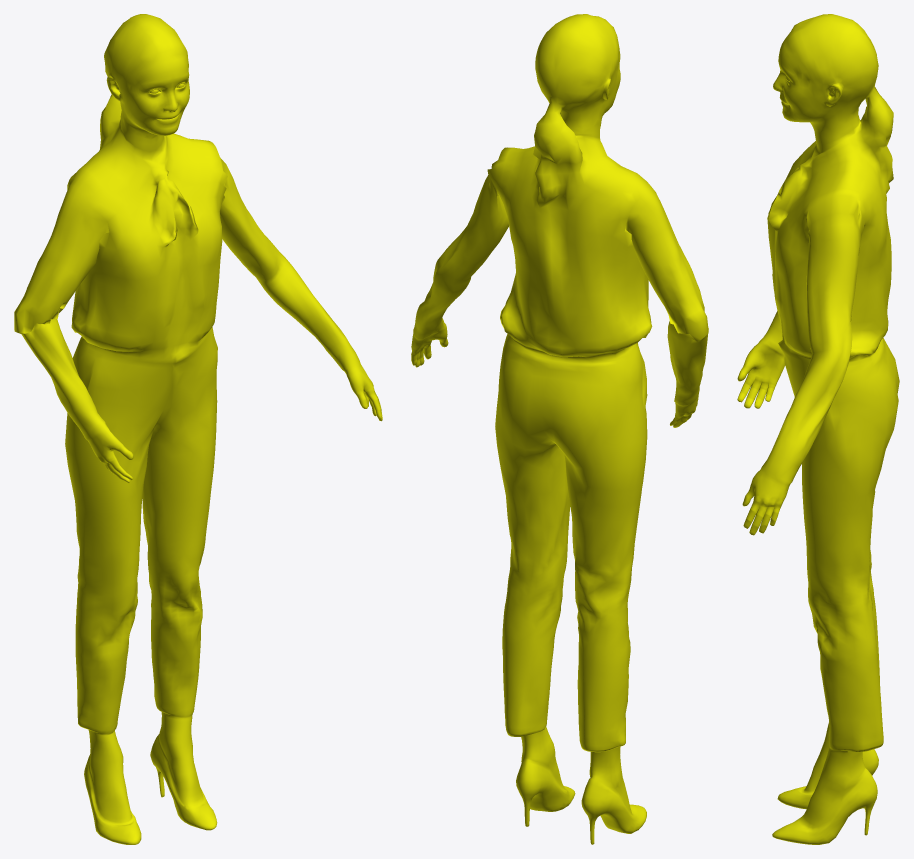
The model's file is embeded.glb.
3 renders of one model, left to right at view 1: azimuth 30°, elevation 25°; view 2: azimuth 150°, elevation 25°; view 3: azimuth 270°, elevation 25°, orthographic.
Parts seen in each view (by area): view 1: rp_claudia_rigged_002_geo; view 2: rp_claudia_rigged_002_geo; view 3: rp_claudia_rigged_002_geo.
Part boxes in pixels (bbox=[...]): rp_claudia_rigged_002_geo: bbox=[14, 14, 382, 844]; rp_claudia_rigged_002_geo: bbox=[411, 14, 708, 844]; rp_claudia_rigged_002_geo: bbox=[737, 14, 899, 844].
Bounding box in the file's own units: 0.7831 × 1.84 × 0.3366.
1 material, 1 textured.
